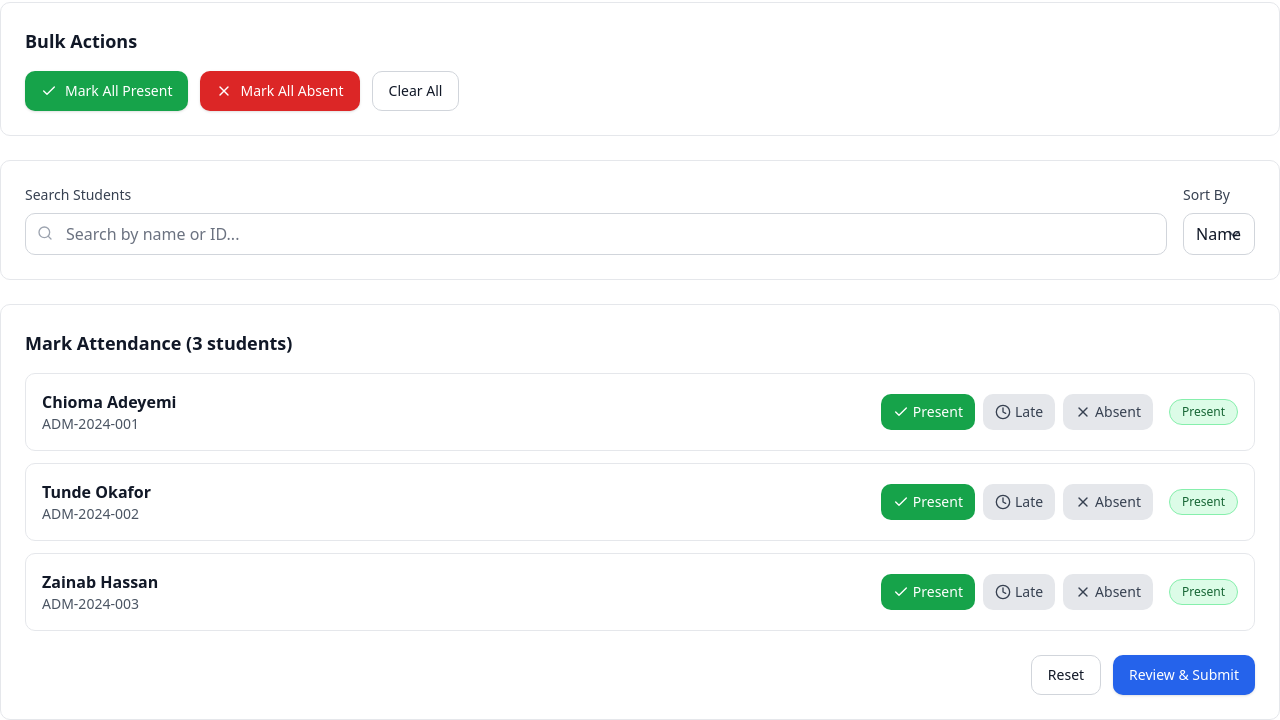
Test: TeacherAttendanceEntry Component › Confirmation Dialog › should show confirmation dialog when review button is clicked
(page scrolled)
Expected: the text "Chioma Adeyemi" is shown, [42,391,176,413]
Click the button "Review & Submit": (1184, 675) [1113,655,1255,695]
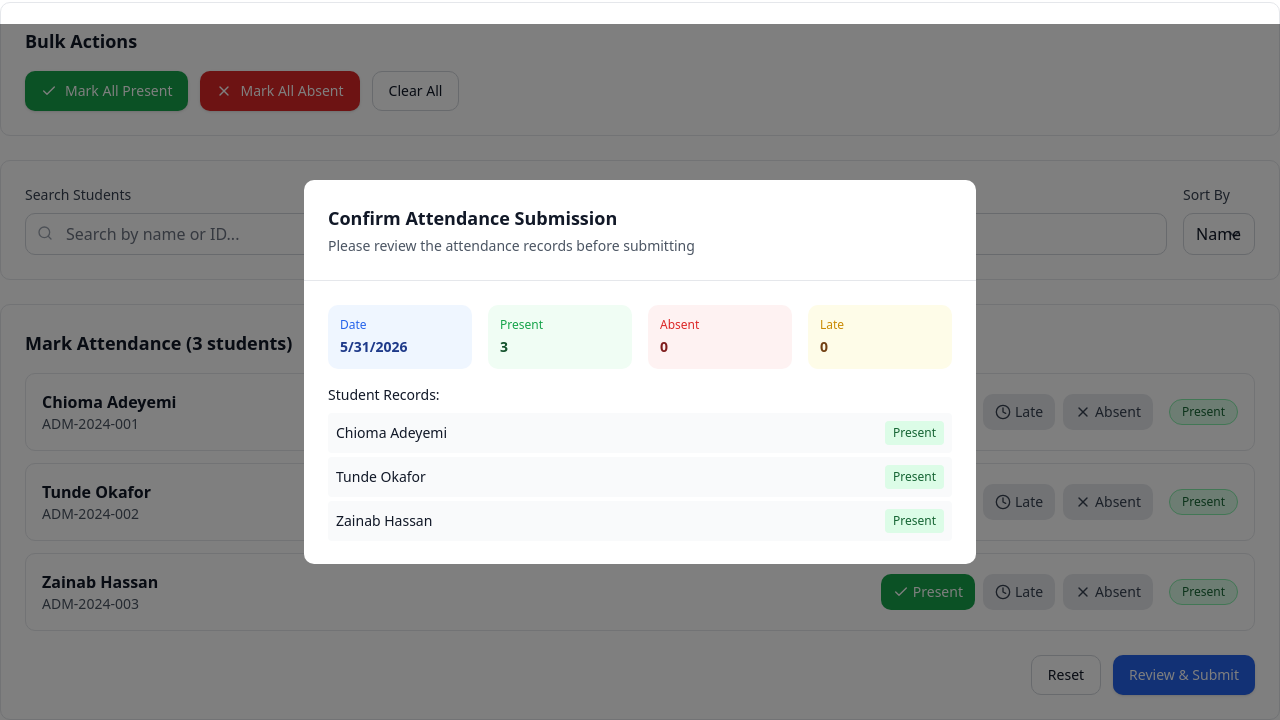
Result: the heading "Confirm Attendance Submission" is shown at [328,206,617,230]
